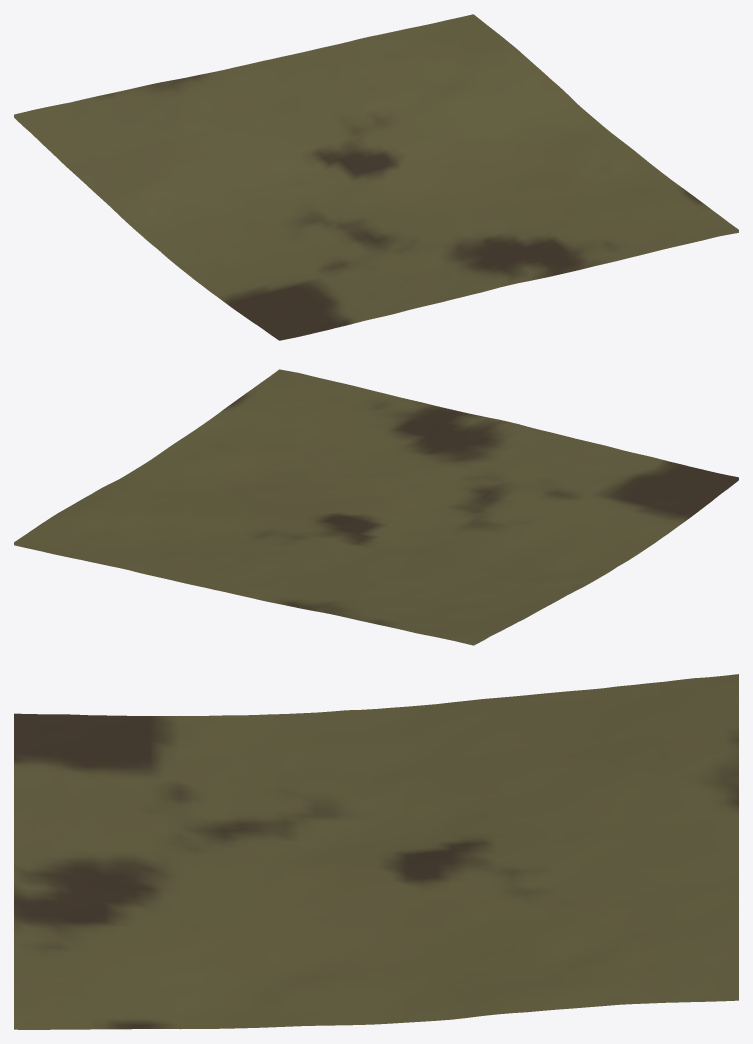
File: land_m_02_02.glb
The picture shows the model from 3 angles, top to bottom: view 1: azimuth 30°, elevation 25°; view 2: azimuth 150°, elevation 25°; view 3: azimuth 270°, elevation 25°; orthographic projection. The views are drawn at different scales.
Parts seen in each view (by area): view 1: land_m_02_02; view 2: land_m_02_02; view 3: land_m_02_02.
Boxes of the visible parts, <box> form: land_m_02_02: <box>14,14,738,340</box>; land_m_02_02: <box>14,369,738,645</box>; land_m_02_02: <box>14,674,738,1029</box>.
Size of the model in its own units: 960 by 72.35 by 960.
